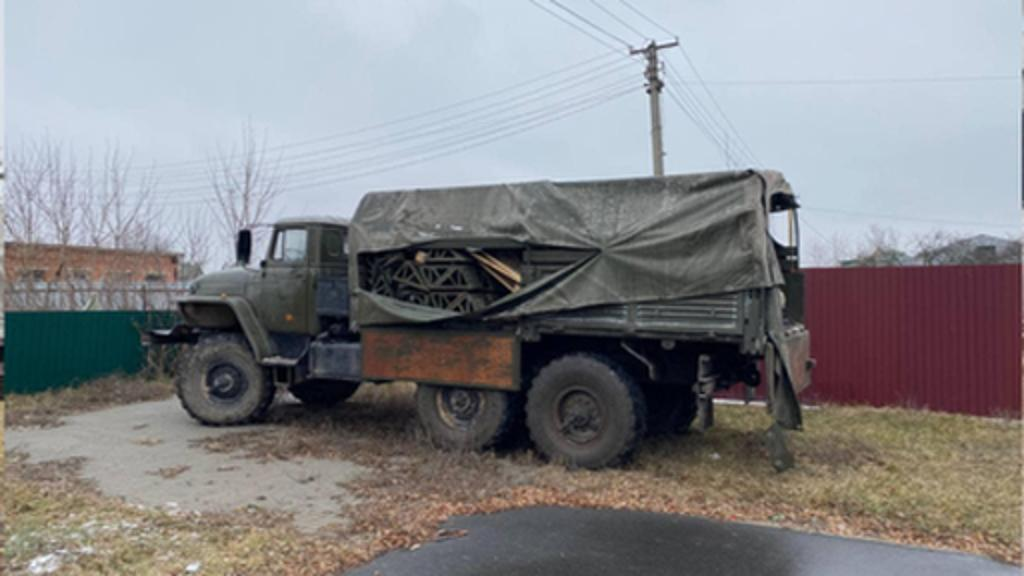TRUCK: (140, 154, 816, 482)
